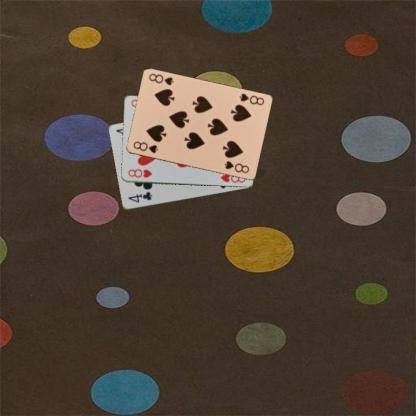4c: (125, 189, 153, 204)
8h: (125, 167, 153, 179)
8s: (236, 91, 266, 106), (130, 139, 159, 154)
